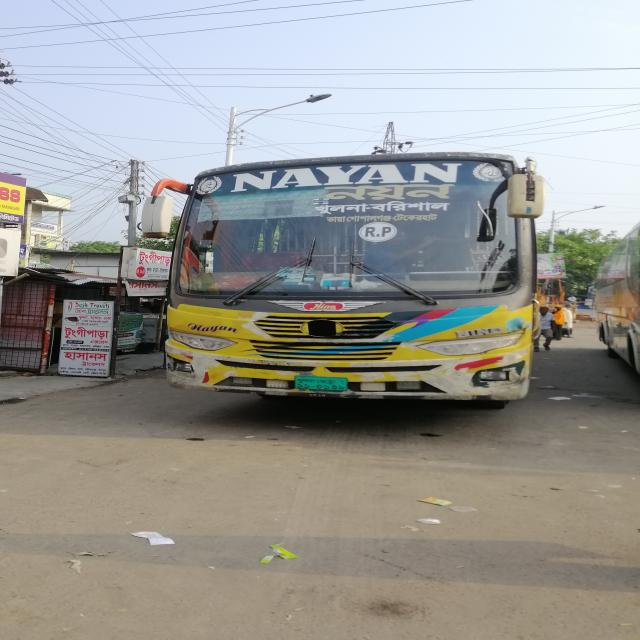Bus: (142, 146, 554, 432)
